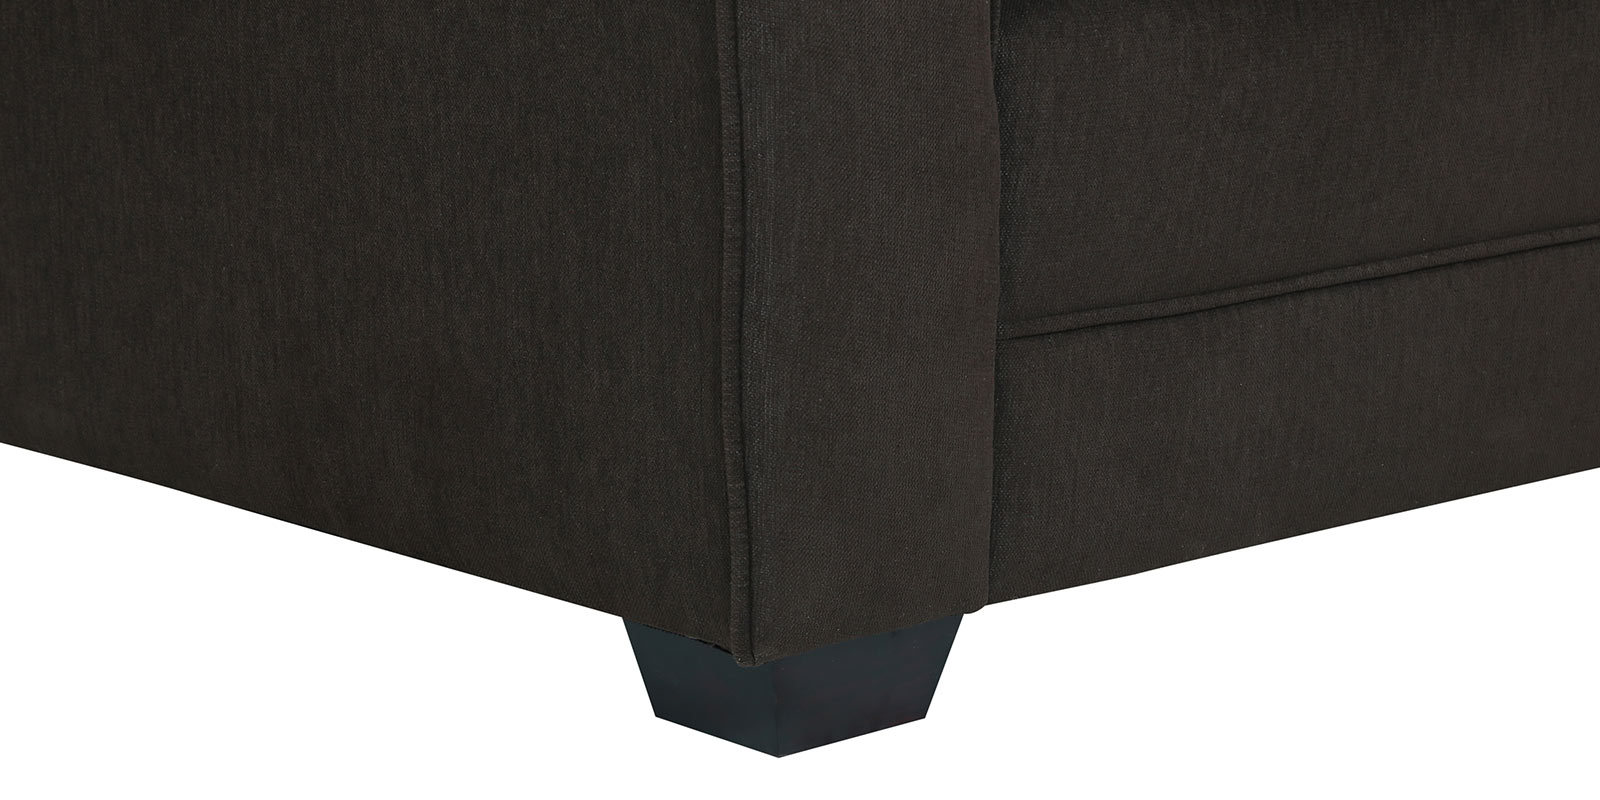Madeira Three Seater Sofa in Chestnut Brown Colour by CasaCraft: (2, 1, 1600, 758)
